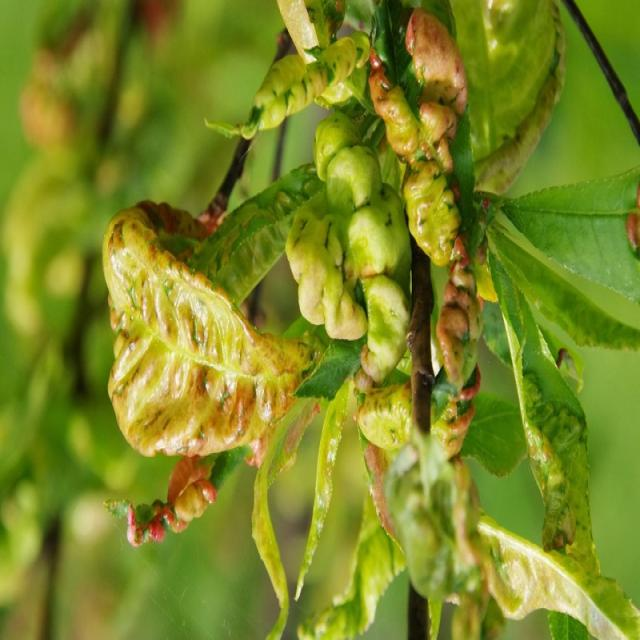peach_leaf_curl: (66, 185, 338, 560), (377, 3, 507, 508)
